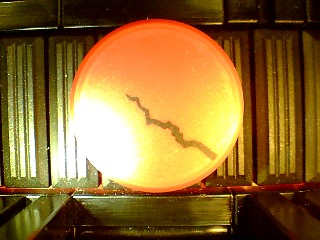CRACK: (68, 19, 245, 193)
